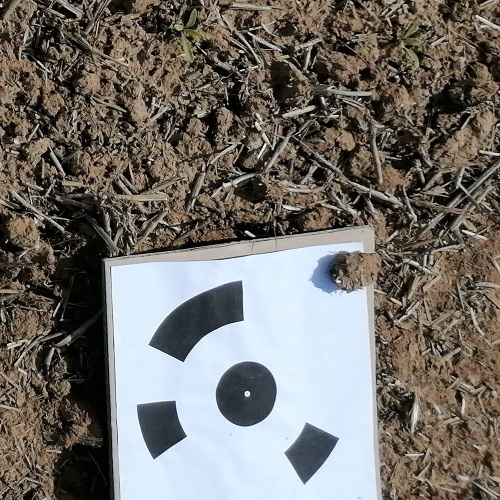beet: (179, 7, 204, 61), (399, 19, 424, 66)
